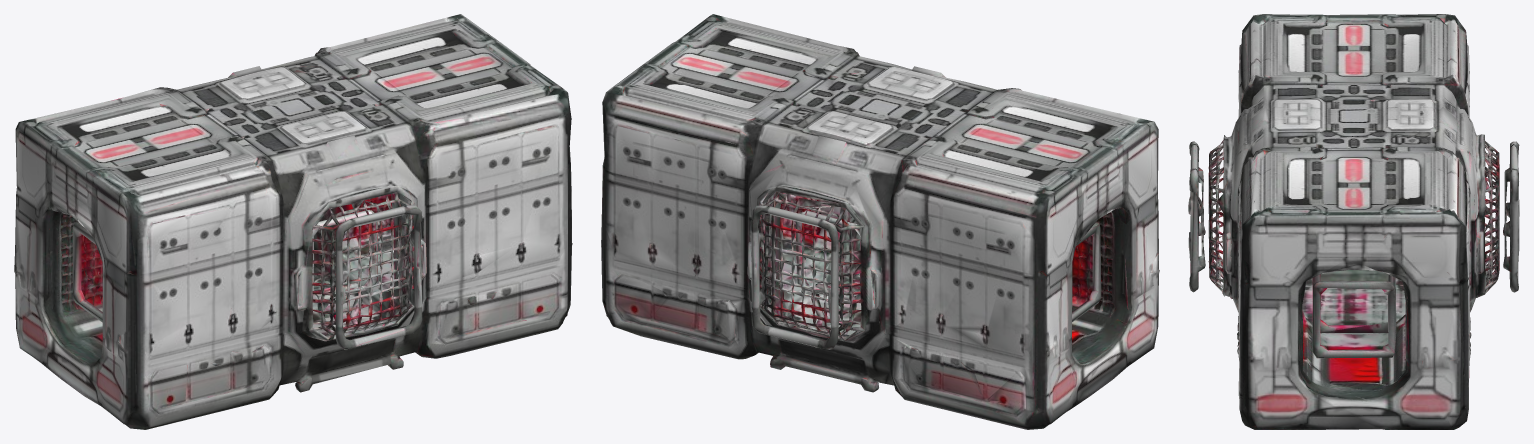
The model's file is station_brig.repacked.glb.
3 views of the same model, side by side, from view 1: azimuth 30°, elevation 25°; view 2: azimuth 150°, elevation 25°; view 3: azimuth 270°, elevation 25° (orthographic). The views are drawn at different scales.
Parts seen in each view (by area): view 1: Mesh1.0; view 2: Mesh1.0; view 3: Mesh1.0.
Boxes of the visible parts, x1,y1,x2,y2 form: Mesh1.0: (14, 14, 572, 429); Mesh1.0: (601, 14, 1159, 429); Mesh1.0: (1188, 14, 1519, 429).
Bounding box in the file's own units: 1.91 × 0.9537 × 1.31.
Materials: 1 (1 with a texture image).
